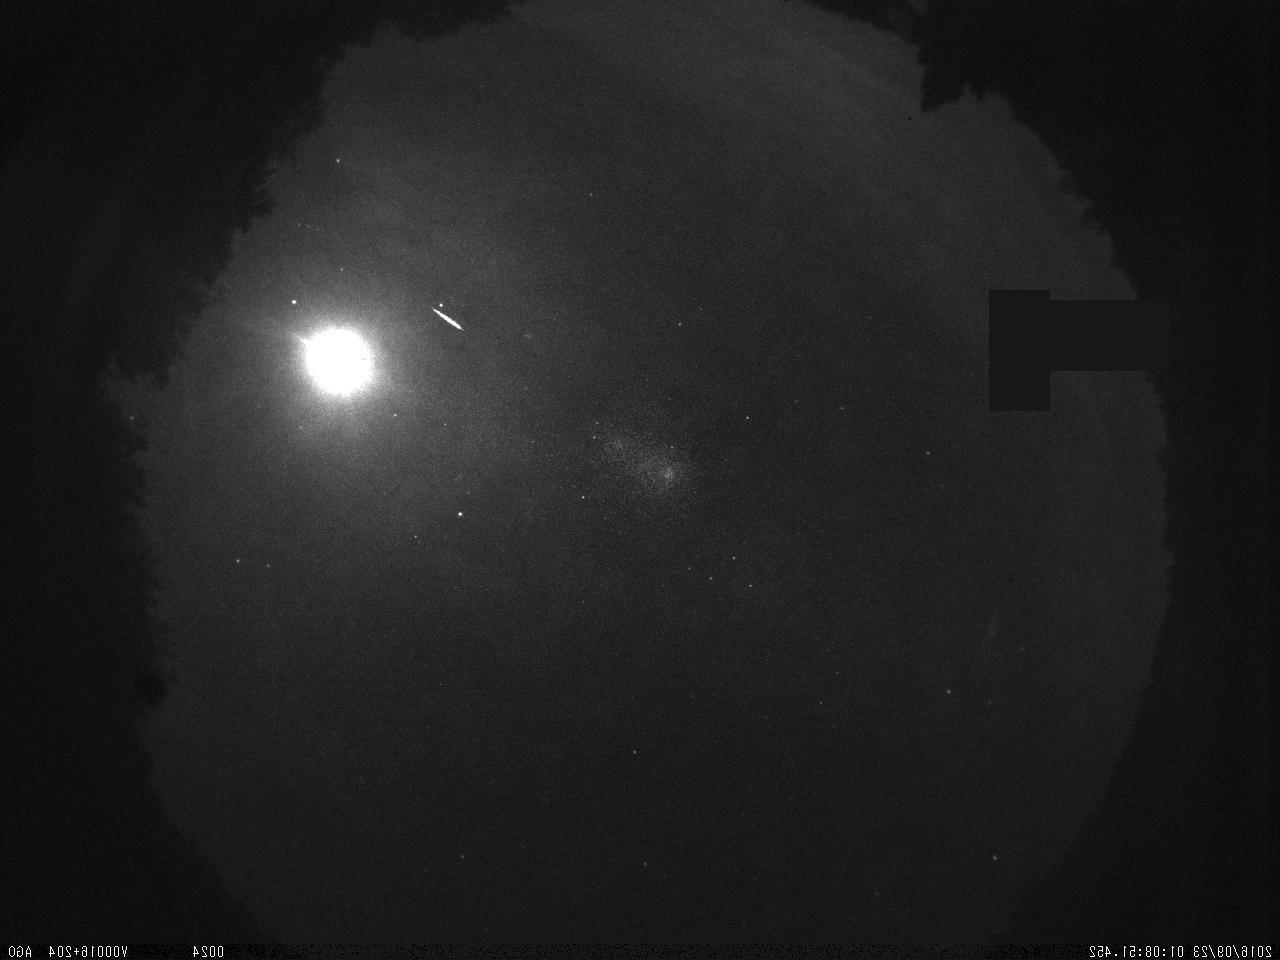meteor: (424, 305, 471, 344)
